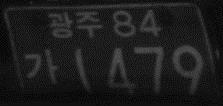1: (71, 45, 91, 97)
4: (106, 44, 137, 96), (138, 8, 160, 36)
7: (134, 43, 167, 95)
8: (110, 9, 135, 36)
9: (172, 44, 206, 95)
가: (23, 47, 59, 88)
광주_O: (46, 10, 102, 39)
